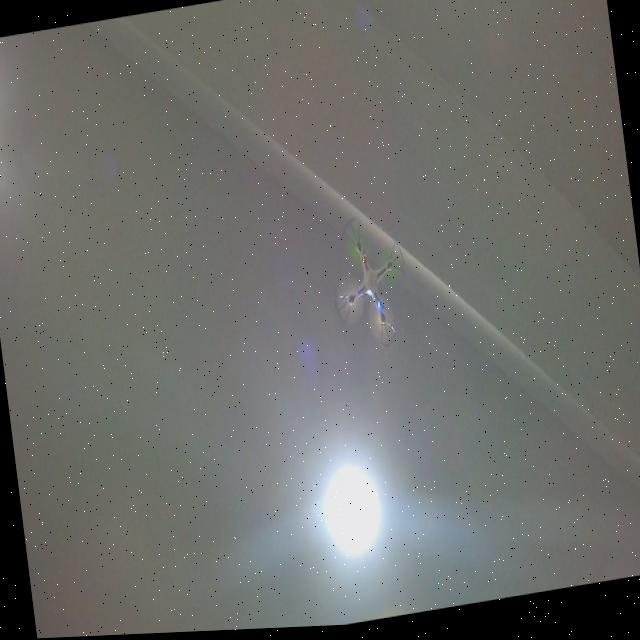drone: (322, 210, 416, 363)
